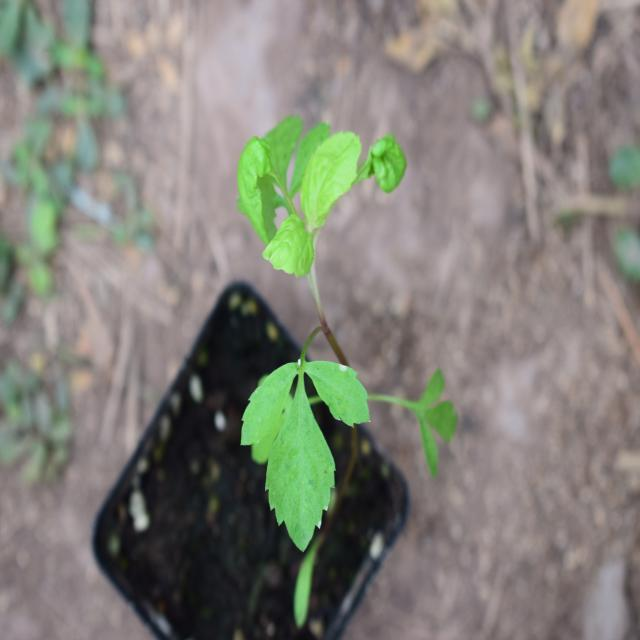Bidens pilosa: (221, 75, 443, 532)
